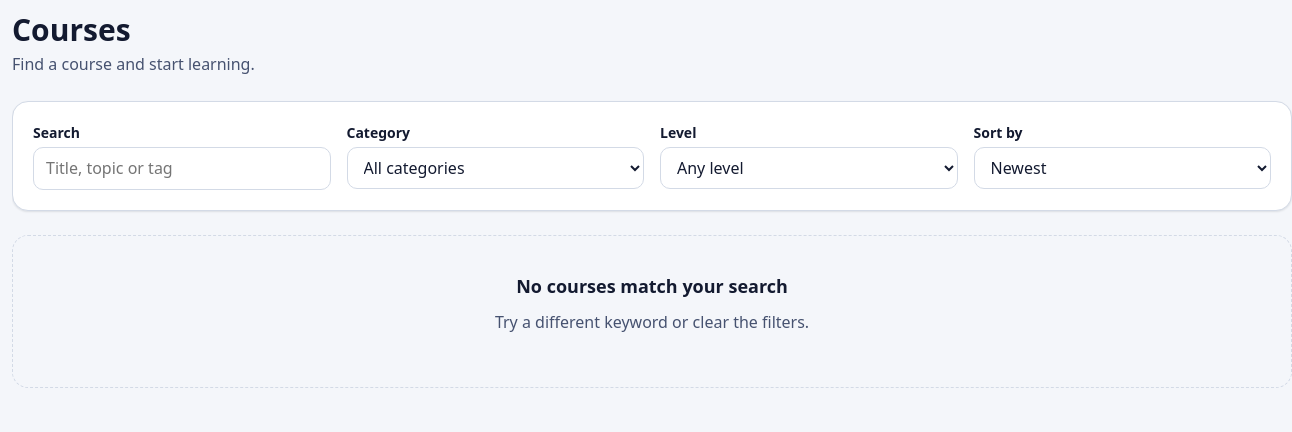
Test case: Courses page › shows an empty state, and a retry button after a network failure
Check: the heading "No courses match your search" is shown, box [516,274,788,298]
In the search field labelled "Search": (182, 169) [33,148,330,190], type "x"
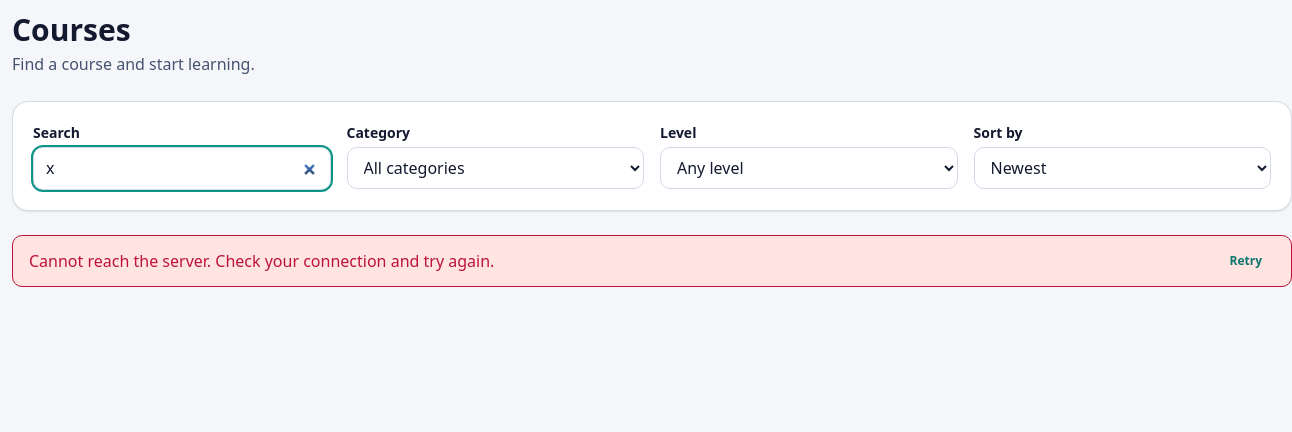
Check: the text "Cannot reach the server" is shown, box [29,250,494,272]
Click the button "Retry": (1246, 261) [1216,248,1275,274]
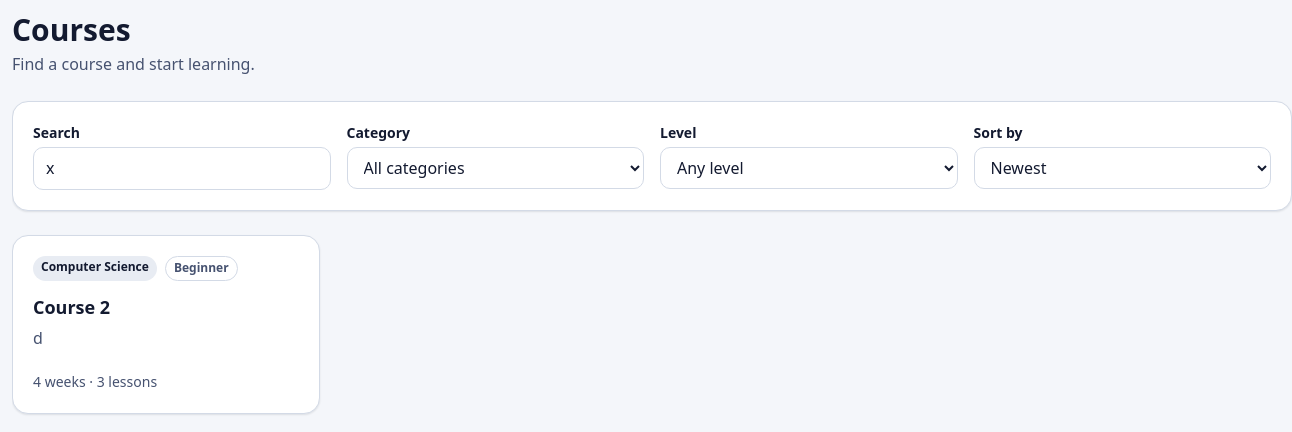
Check: the link "Course 2" is shown, box [33,295,110,319]
